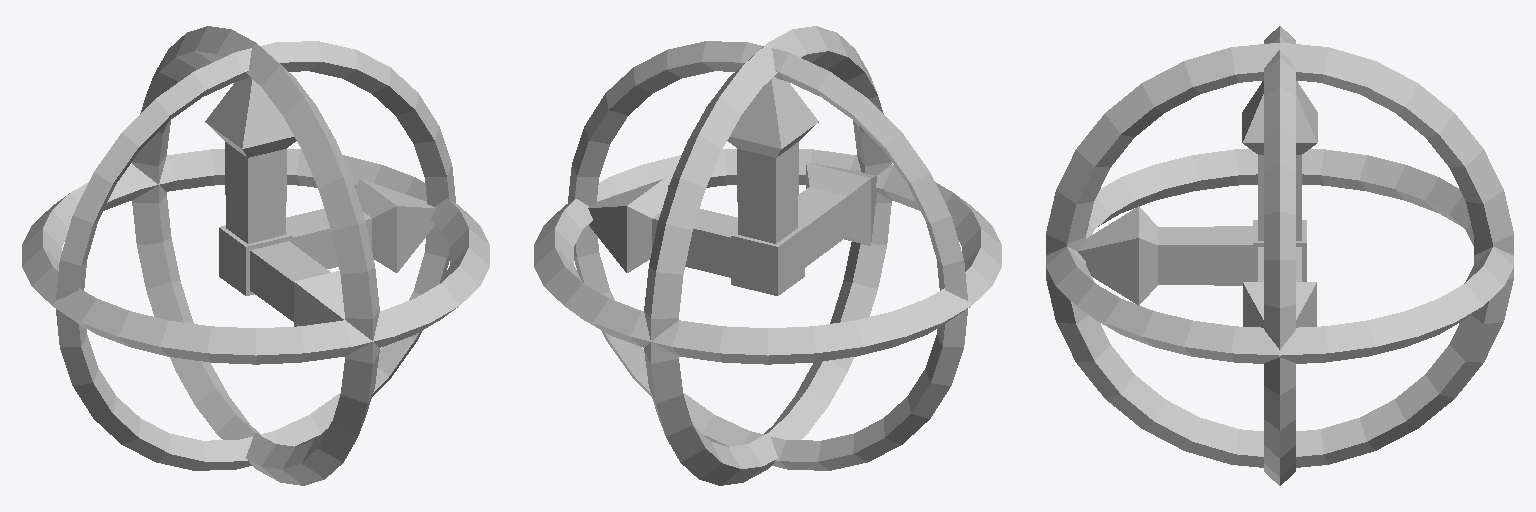
Rendered from gizmo_collision.obj.
3 views of the same model, side by side, from view 1: azimuth 30°, elevation 25°; view 2: azimuth 150°, elevation 25°; view 3: azimuth 270°, elevation 25° (orthographic).
Parts seen in each view (by area): view 1: rotation_x, rotation_z, rotation_y, gizmo_y, gizmo_x, gizmo_z, middle; view 2: rotation_x, rotation_z, rotation_y, gizmo_y, gizmo_x, gizmo_z, middle; view 3: rotation_x, rotation_y, rotation_z, gizmo_z, gizmo_y, gizmo_x, middle.
Boxes of the visible parts, x1,y1,x2,y2 form: rotation_x: [132, 26, 379, 485]; rotation_z: [56, 41, 455, 470]; rotation_y: [22, 149, 489, 364]; gizmo_y: [205, 77, 296, 243]; gizmo_x: [286, 179, 435, 272]; gizmo_z: [250, 241, 344, 326]; middle: [219, 225, 292, 295]; rotation_x: [644, 26, 891, 485]; rotation_z: [568, 41, 967, 470]; rotation_y: [534, 149, 1001, 364]; gizmo_y: [727, 77, 818, 243]; gizmo_x: [588, 179, 737, 277]; gizmo_z: [798, 162, 876, 267]; middle: [731, 225, 804, 295]; rotation_x: [1046, 43, 1513, 467]; rotation_y: [1046, 149, 1513, 363]; rotation_z: [1264, 26, 1295, 485]; gizmo_z: [1078, 206, 1252, 304]; gizmo_y: [1242, 81, 1317, 240]; gizmo_x: [1243, 247, 1316, 327]; middle: [1253, 220, 1306, 281].
Size of the model in its own units: 51.82 by 51.82 by 51.54.